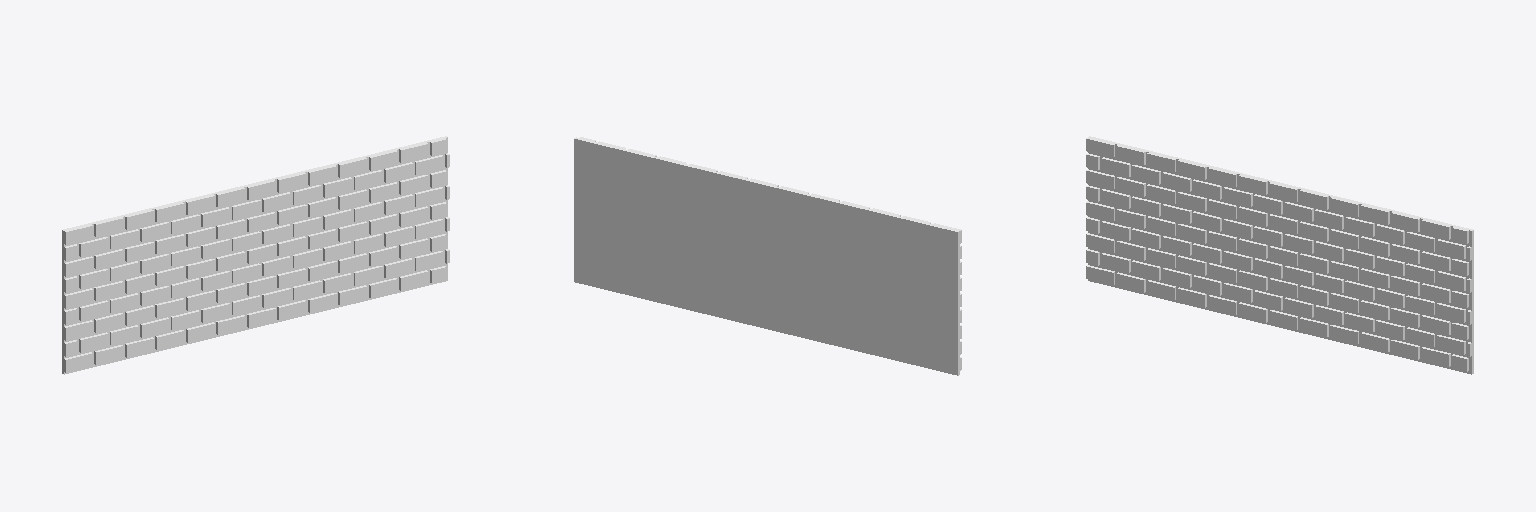
The model's file is стена-1.obj.
The picture shows the model from 3 angles: view 1: azimuth 30°, elevation 25°; view 2: azimuth 150°, elevation 25°; view 3: azimuth 330°, elevation 25°; orthographic projection.
Parts seen in each view (by area): view 1: object 1; view 2: object 1; view 3: object 1.
Boxes of the visible parts, x1=… form: object 1: x1=62, y1=136, x2=449, y2=374; object 1: x1=574, y1=137, x2=961, y2=375; object 1: x1=1086, y1=136, x2=1473, y2=374.
Size of the model in its own units: 12.6 by 4.5 by 0.2.